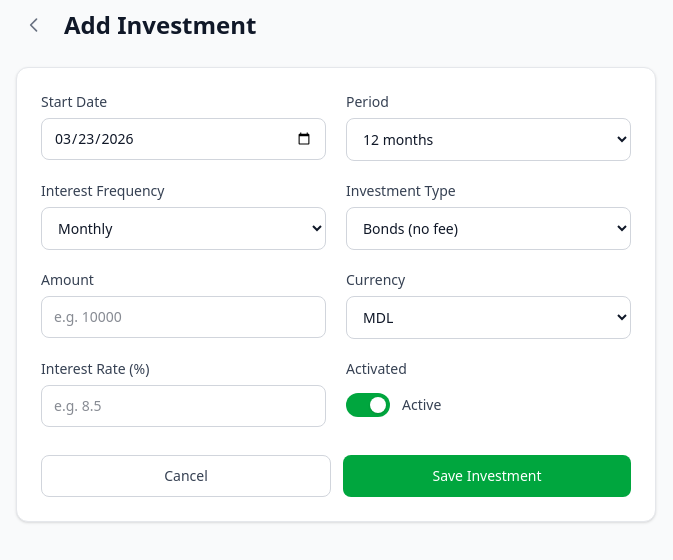
Test: InvestmentForm › shows validation error for invalid rate > 100
Type "10000" into the number field with placeholder "e.g. 10000".
click(184, 317); type("10000")  # box [41,296,326,338]
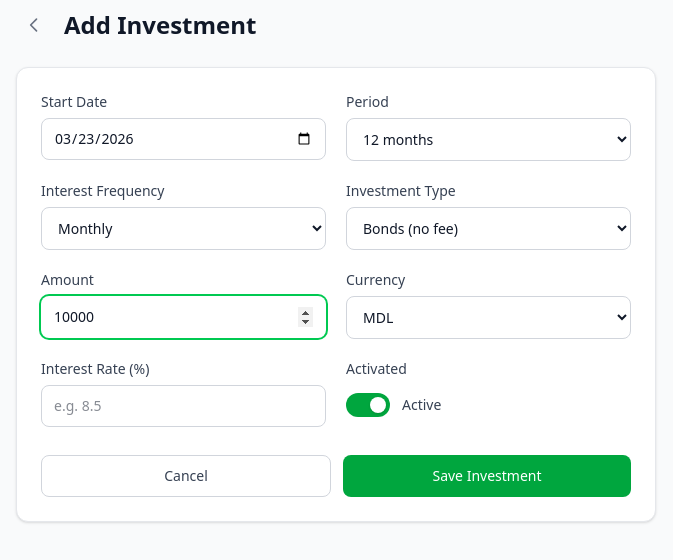
Type "150" into the field with placeholder "e.g. 8.5".
click(184, 406); type("150")  # box [41,385,326,427]
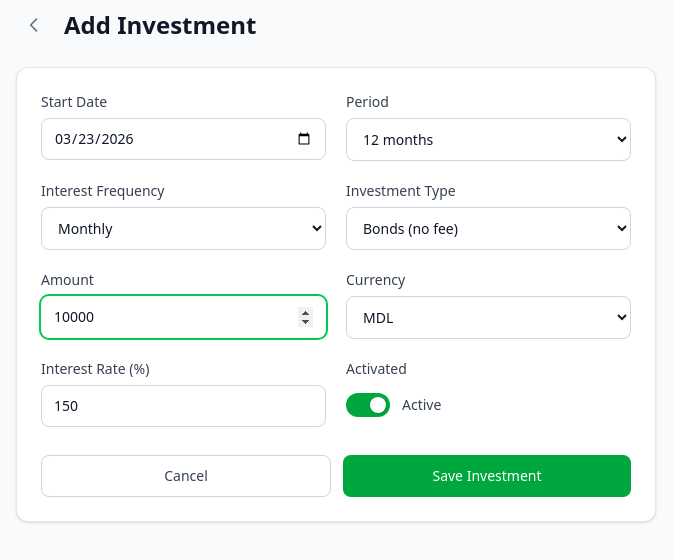
Submit the form with placeholder "e.g. 8.5"
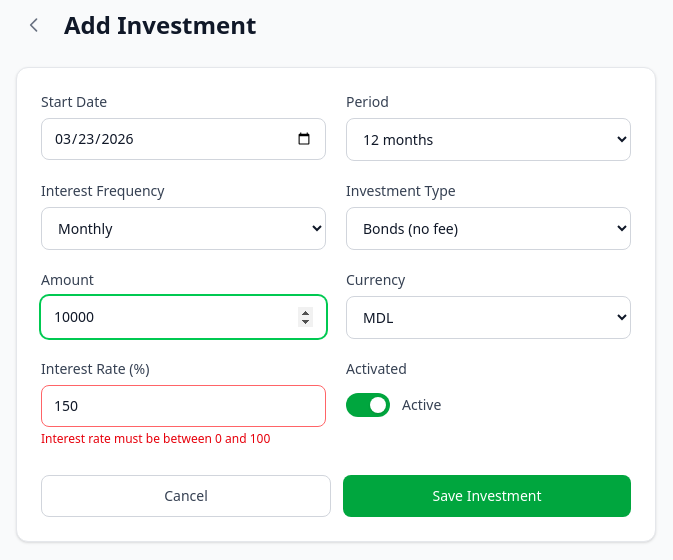
Check: the text "Interest rate must be between 0 and 100" is shown, box [41,430,270,447]
